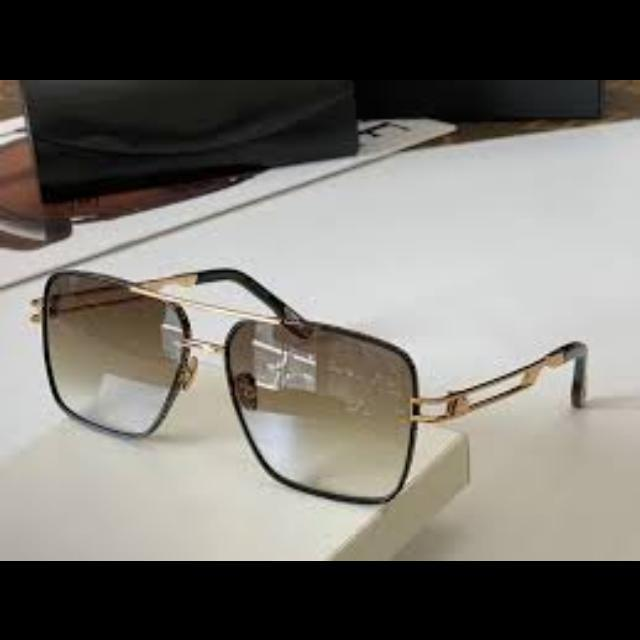sunglasses: (29, 265, 591, 503)
